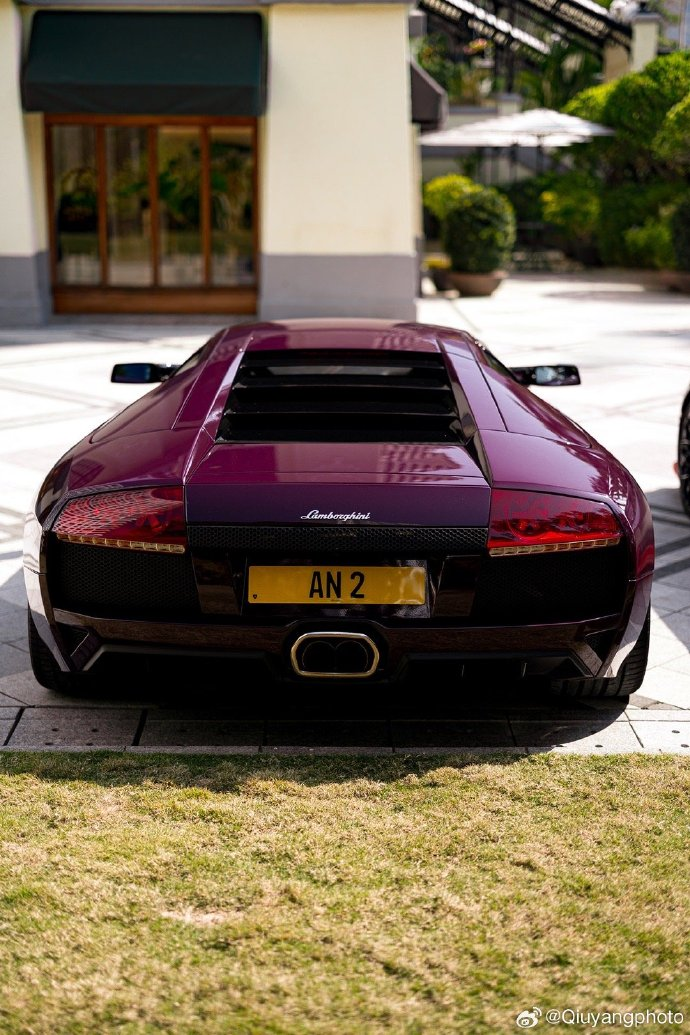other: (23, 328, 662, 702)
